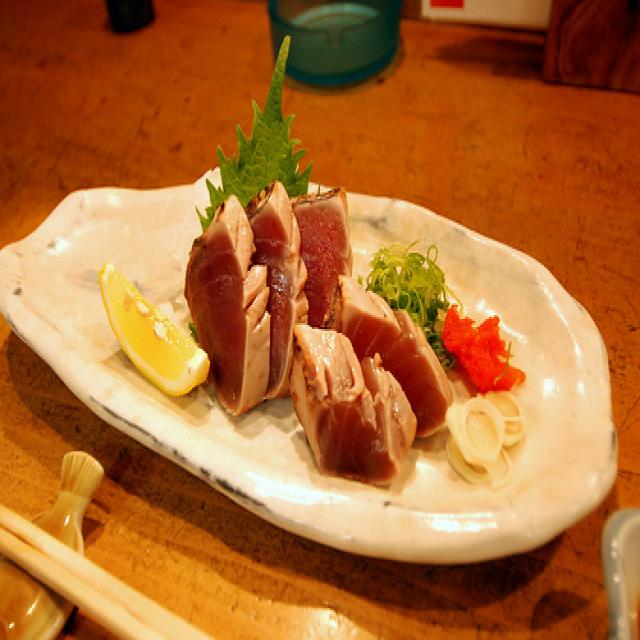熟制海鲜: (138, 168, 526, 476)
